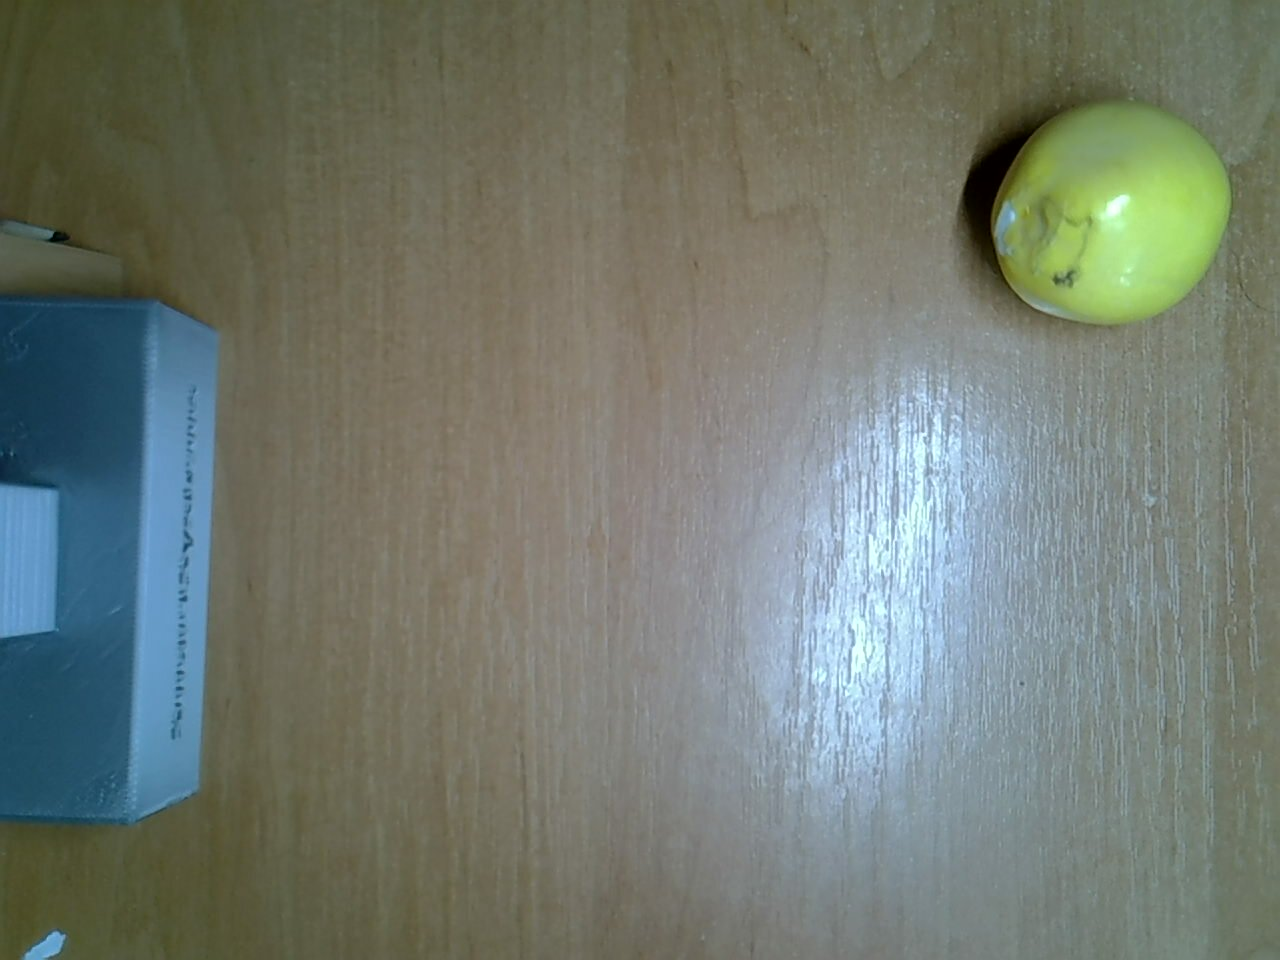apple: (979, 82, 1236, 330)
